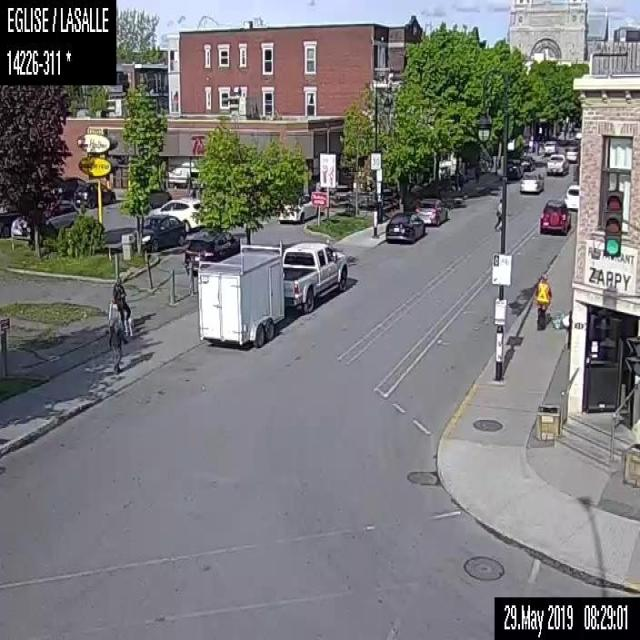pedestrian: (111, 274, 133, 334), (106, 318, 127, 373), (532, 271, 551, 329), (492, 198, 502, 230)
vehicle: (196, 240, 348, 347), (183, 226, 241, 278), (11, 200, 78, 244), (132, 213, 186, 253), (147, 194, 203, 231), (384, 210, 424, 244), (72, 179, 115, 209), (278, 194, 316, 224), (414, 196, 448, 229), (538, 200, 570, 233), (48, 175, 86, 202), (518, 170, 543, 193), (544, 152, 567, 174), (506, 158, 525, 182), (564, 182, 579, 211), (519, 154, 536, 171), (563, 144, 579, 161), (542, 138, 557, 155)
